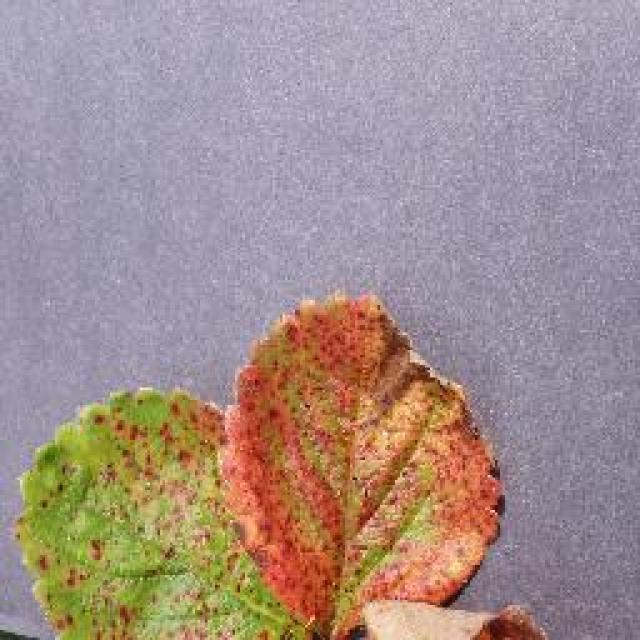Strawberry___Leaf_scorch: (0, 270, 568, 640)
